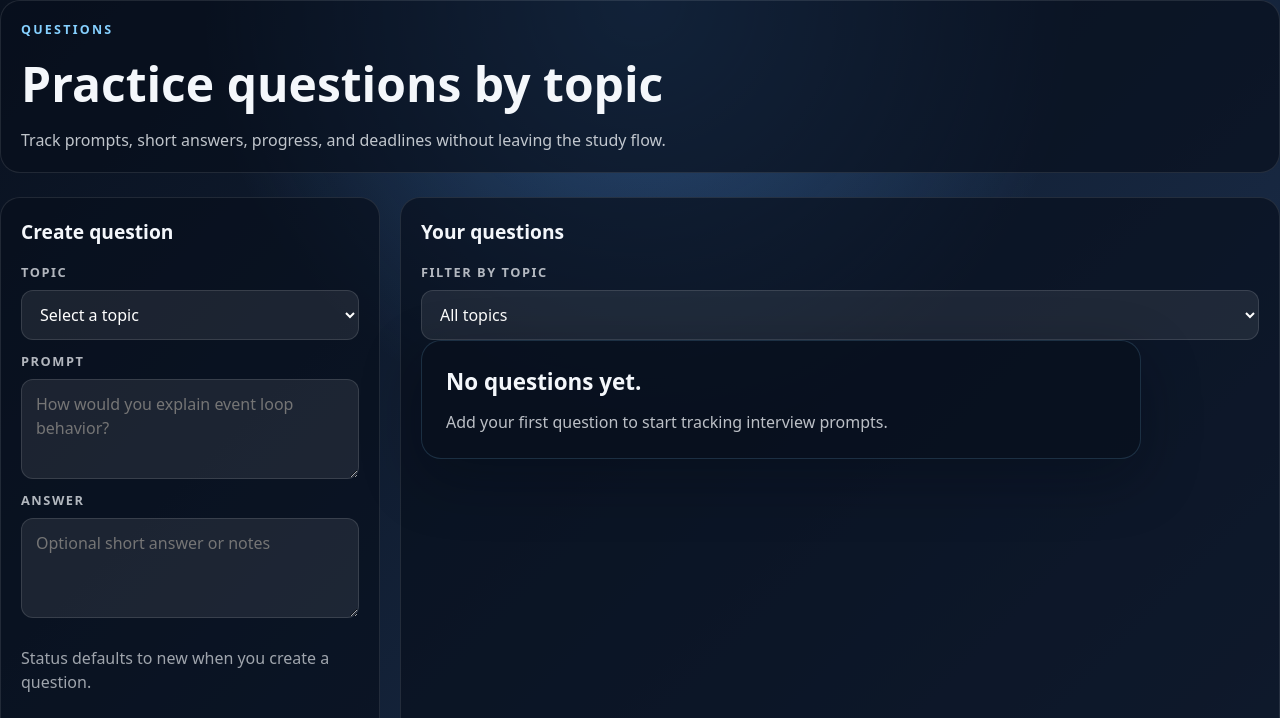
QuestionsPage › shows a validation error when prompt is missing
Select "JavaScript" in the dropdown labelled "Topic" at (190, 315), box top-left (21, 290), bottom-right (359, 340)
(page scrolled)
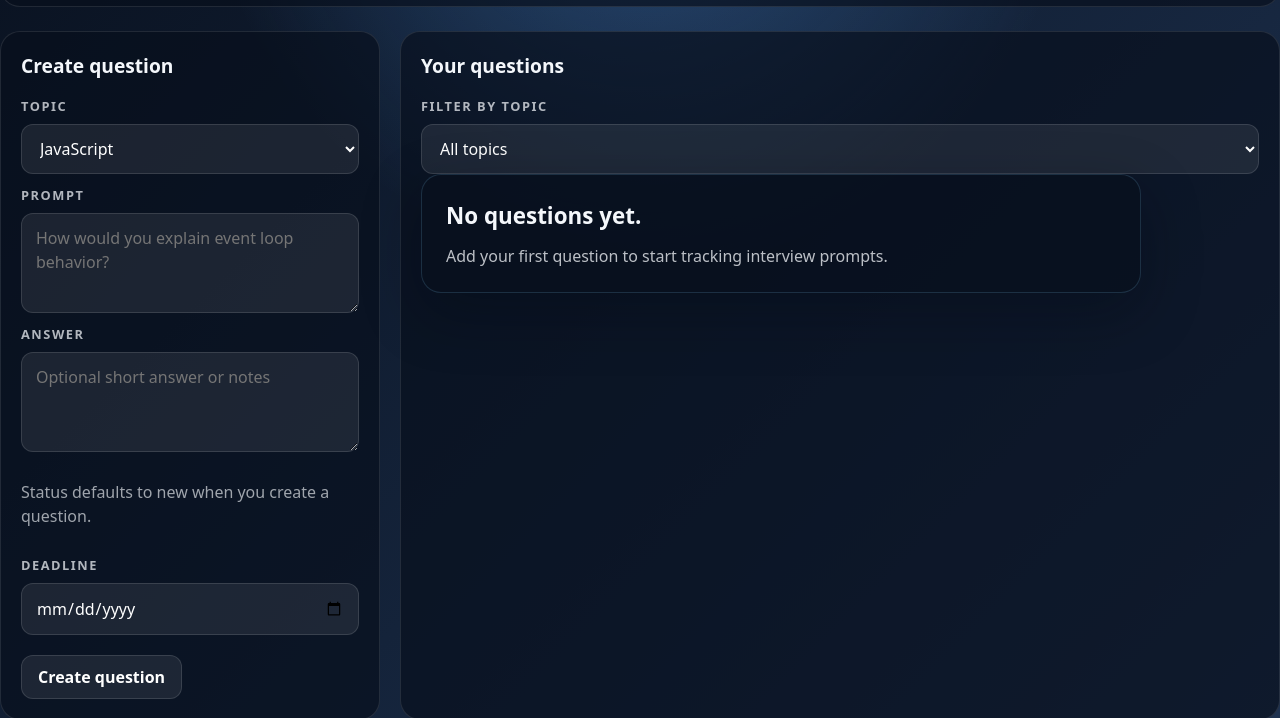
Click the button "Create question" at (102, 677), box top-left (21, 655), bottom-right (182, 699)
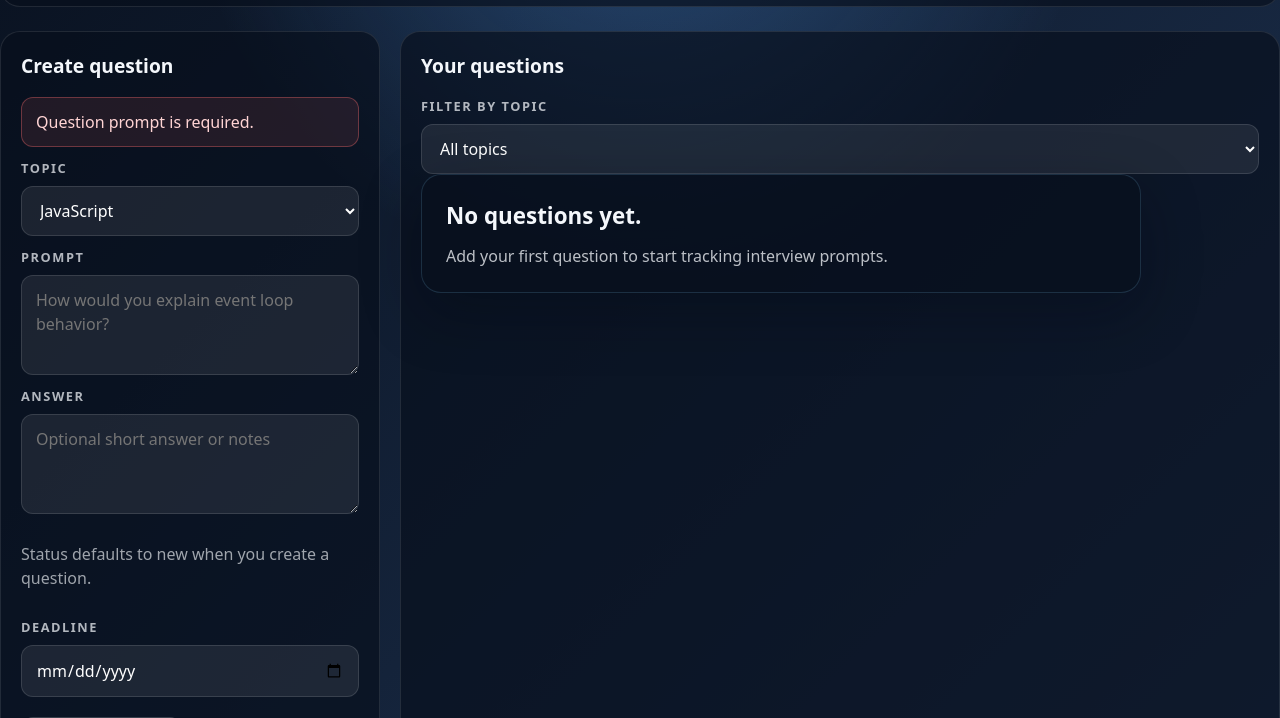
Expected: the message reads "Question prompt is required.", top-left (36, 110), bottom-right (254, 132)
